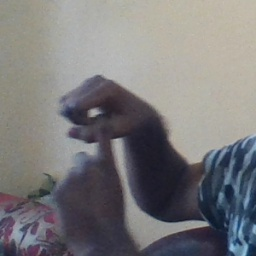Q: (44, 74, 142, 211)
